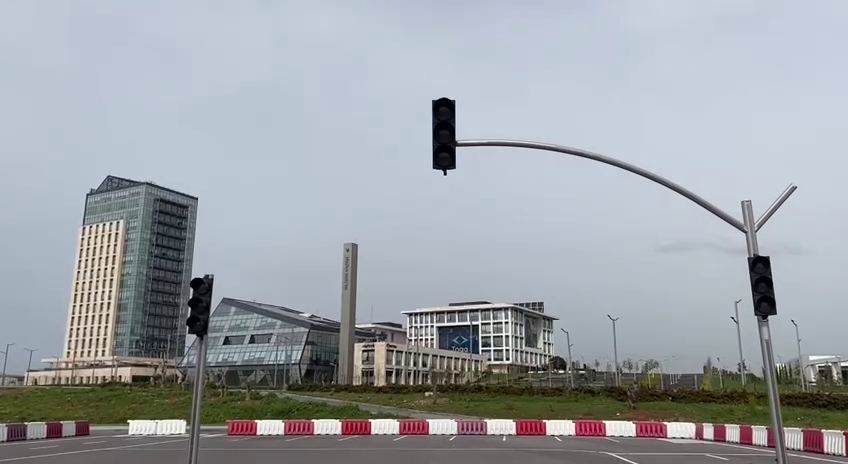trafficLight: (426, 92, 462, 178), (181, 270, 216, 344), (743, 252, 781, 320)
